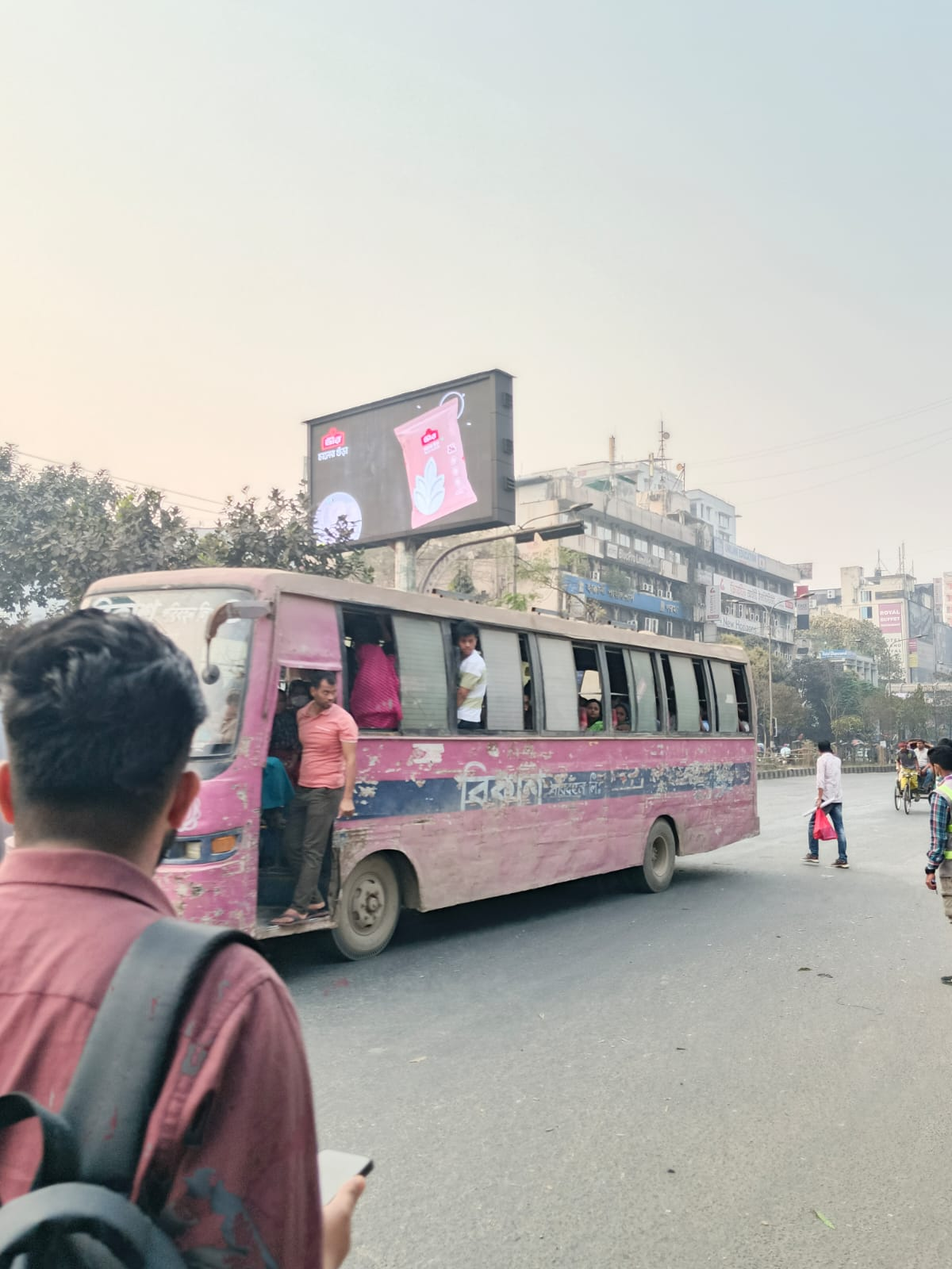Bus: (61, 513, 817, 940)
auto-ricksaw: (873, 735, 952, 857)
